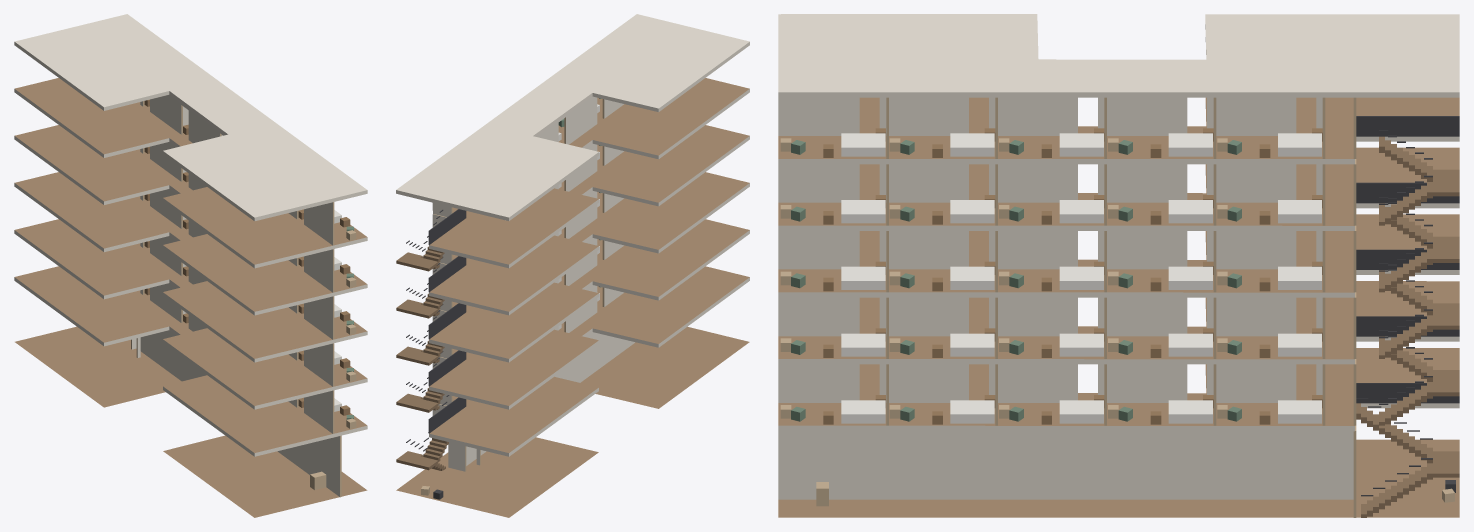
Rendered from interior.glb.
3 renders of one model, left to right at view 1: azimuth 30°, elevation 25°; view 2: azimuth 150°, elevation 25°; view 3: azimuth 270°, elevation 25°, orthographic. The views are drawn at different scales.
Parts seen in each view (by area): view 1: slabs, partitions, coarse-s4, coarse-s1, coarse-s3, coarse-s5, coarse-s2; view 2: slabs, partitions, stair; view 3: slabs, partitions, stair, coarse-s3, coarse-s5, coarse-s1, coarse-s4, coarse-s2.
Part boxes in pixels (bbox=[...]): slabs: bbox=[14, 14, 367, 517]; partitions: bbox=[131, 94, 341, 497]; coarse-s4: bbox=[144, 146, 356, 287]; coarse-s1: bbox=[144, 288, 356, 428]; coarse-s3: bbox=[144, 194, 356, 334]; coarse-s5: bbox=[144, 99, 356, 240]; coarse-s2: bbox=[144, 241, 356, 381]; slabs: bbox=[396, 14, 749, 517]; partitions: bbox=[432, 96, 634, 471]; stair: bbox=[396, 209, 466, 470]; slabs: bbox=[778, 14, 1459, 517]; partitions: bbox=[778, 97, 1356, 517]; stair: bbox=[1356, 116, 1459, 517]; coarse-s3: bbox=[780, 261, 1322, 291]; coarse-s5: bbox=[780, 128, 1322, 157]; coarse-s1: bbox=[780, 395, 1322, 424]; coarse-s4: bbox=[780, 195, 1322, 224]; coarse-s2: bbox=[780, 328, 1322, 357].
Bounding box in the file's own units: 8.37 × 21.17 × 30.7.
